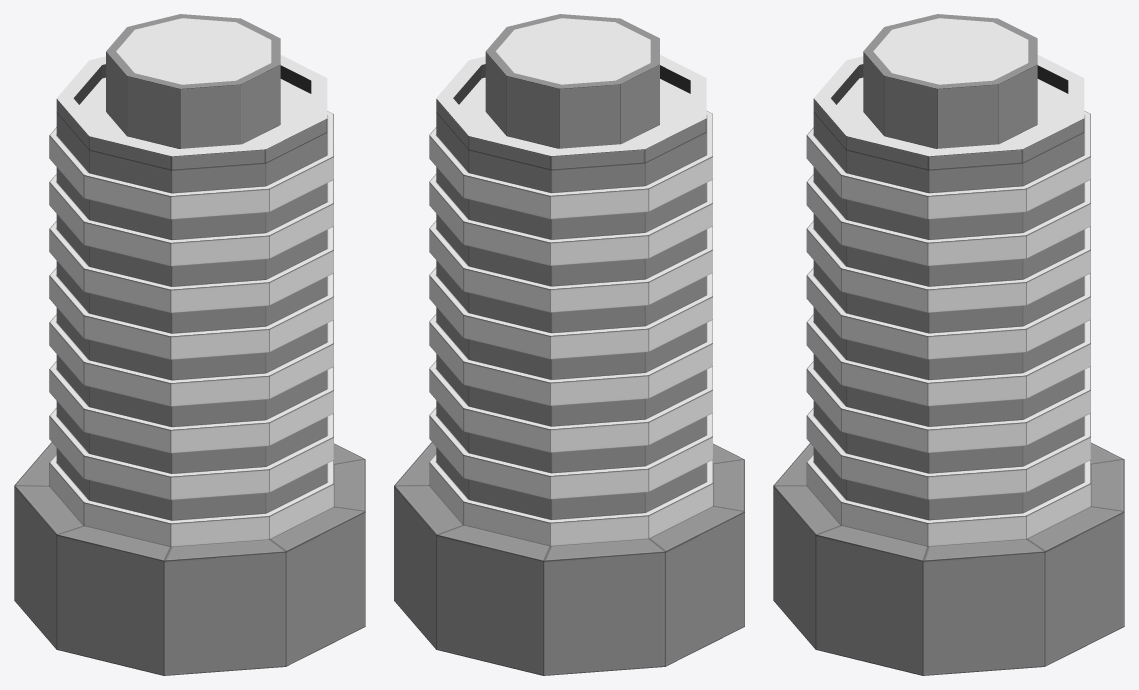
The model's file is Building-13.fbx.
3 renders of one model, left to right at view 1: azimuth 30°, elevation 25°; view 2: azimuth 150°, elevation 25°; view 3: azimuth 270°, elevation 25°, orthographic.
Visible parts, largest first — view 1: Building_13; view 2: Building_13; view 3: Building_13.
Part boxes in pixels (left/top/right/bottom): Building_13: left=14, top=14, right=365, bottom=675; Building_13: left=394, top=14, right=744, bottom=675; Building_13: left=773, top=14, right=1124, bottom=675.
Size of the model in its own units: 4.84 by 8.23 by 4.77.
